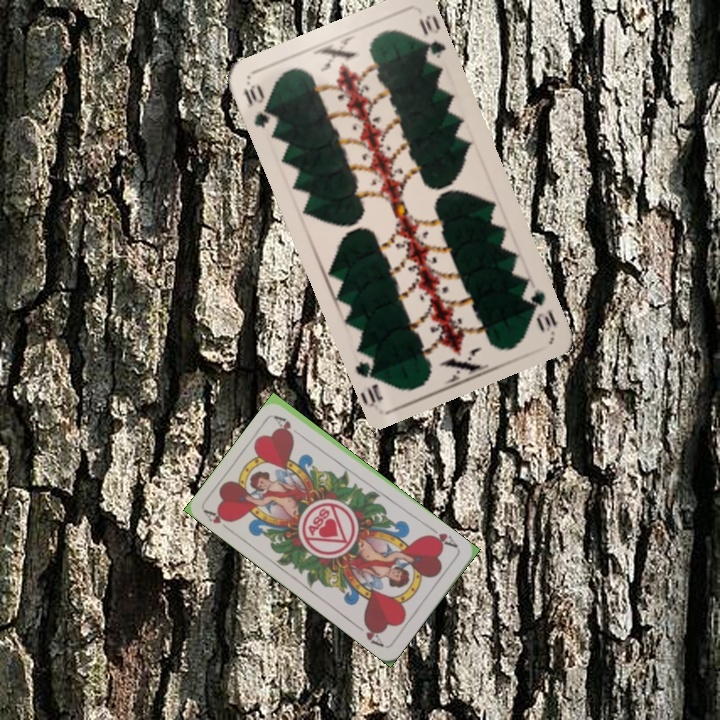G10: (519, 279, 560, 335), (239, 81, 276, 131)
HA: (201, 506, 236, 536), (423, 523, 460, 550)
